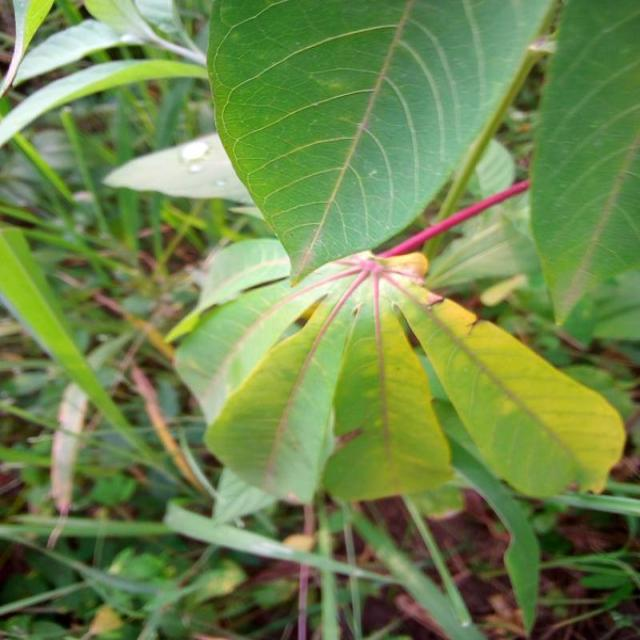cassava leaf: (198, 250, 626, 508), (204, 0, 554, 287), (529, 0, 639, 335)
